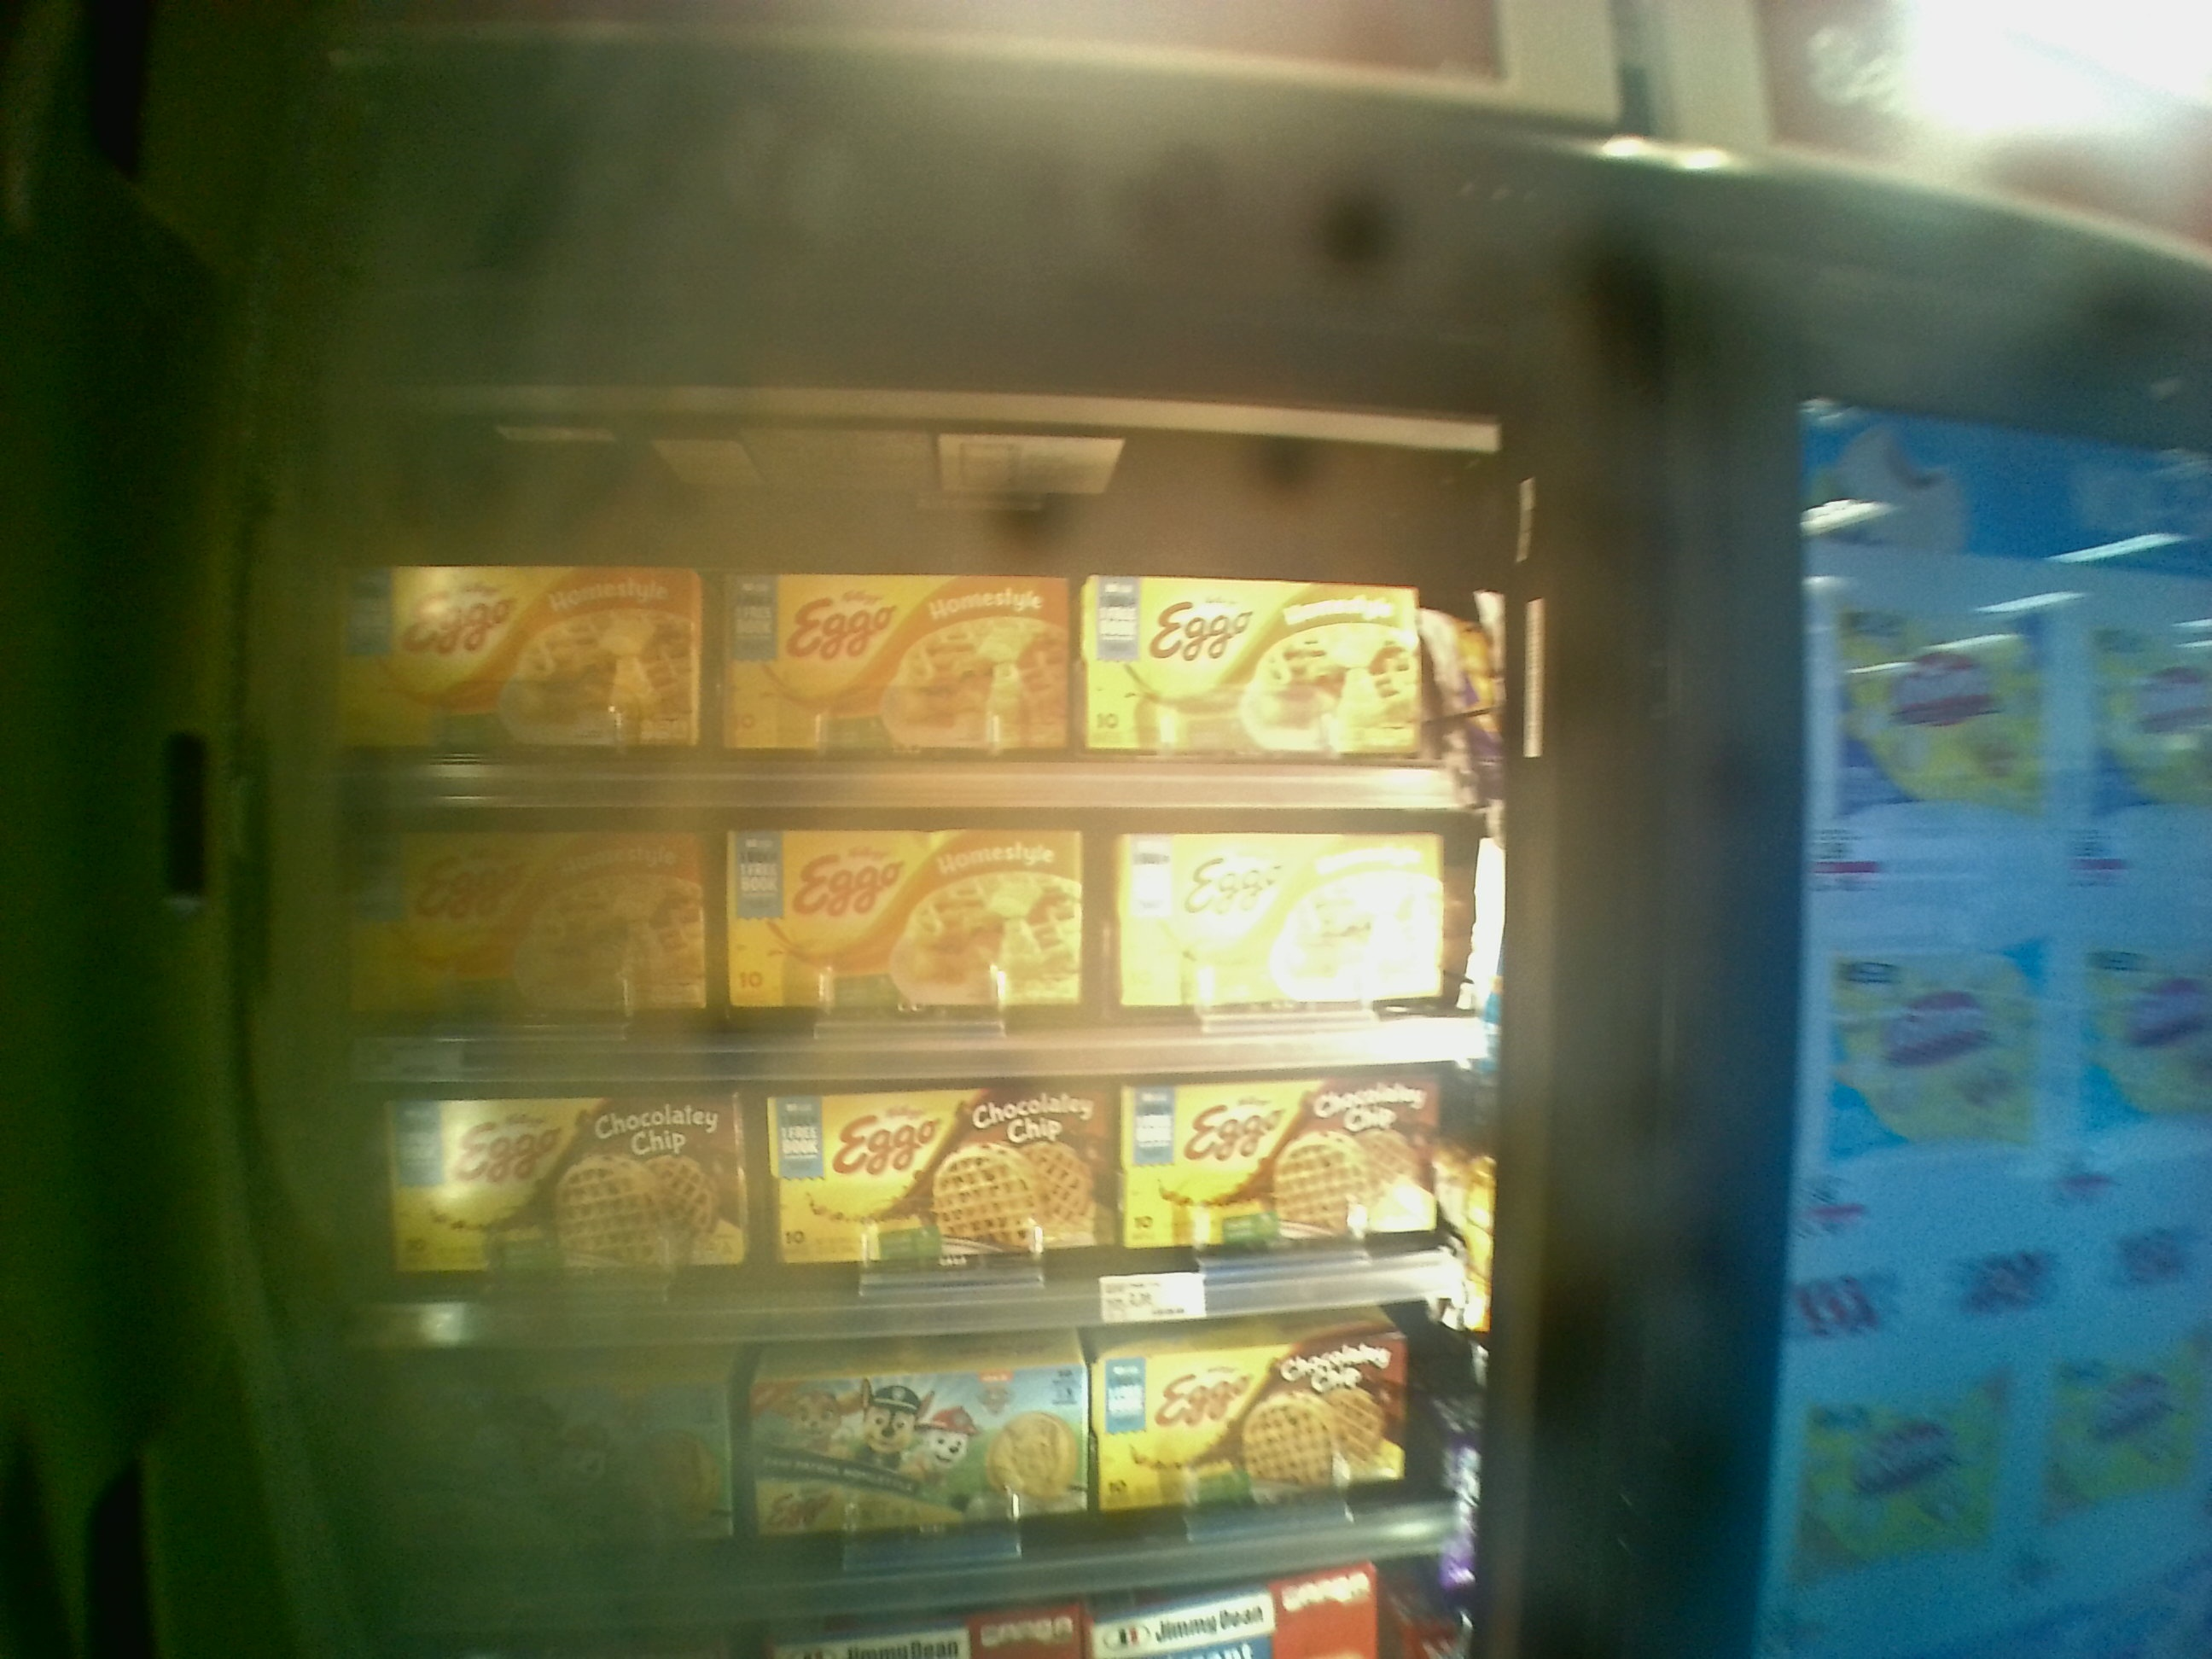shelf: (315, 382, 1491, 817), (368, 1086, 1470, 1347), (336, 829, 1489, 1066)
